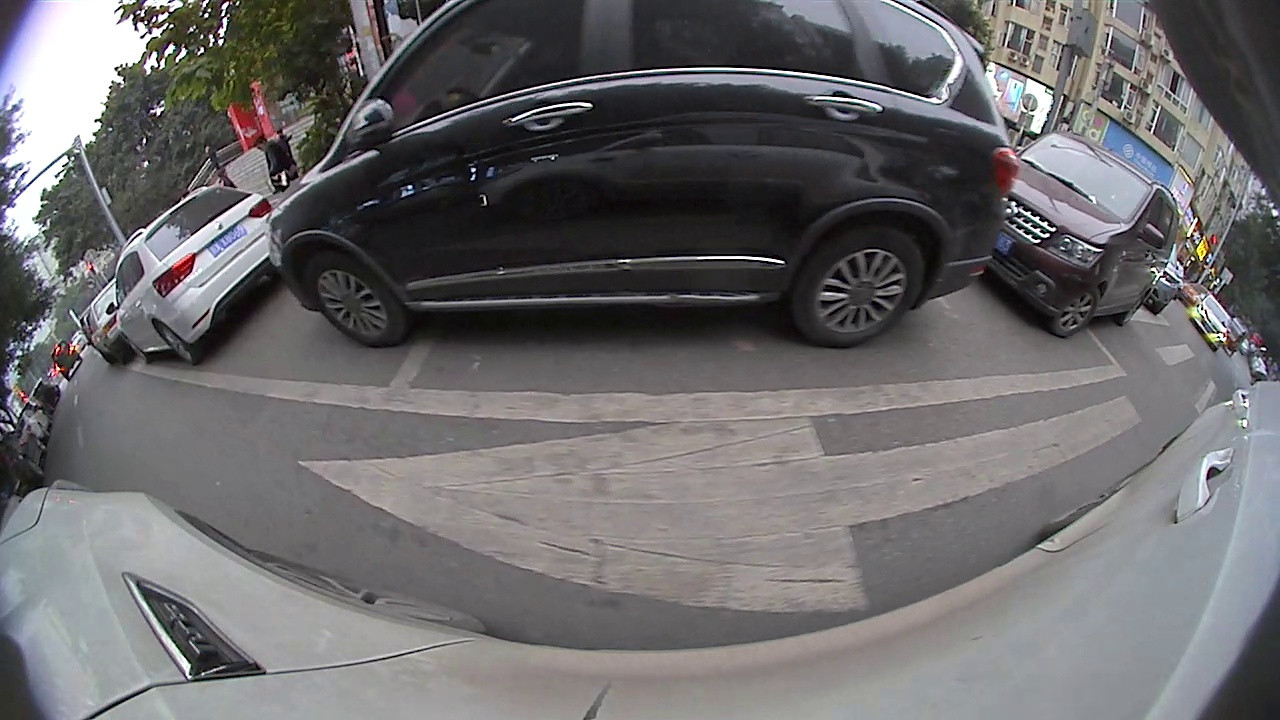car: (263, 1, 1017, 353), (985, 125, 1180, 340), (104, 181, 281, 369), (86, 276, 136, 369), (1193, 287, 1232, 355)
front: (300, 254, 406, 348), (1052, 283, 1100, 338)
rear: (801, 227, 923, 347), (147, 320, 201, 363)
